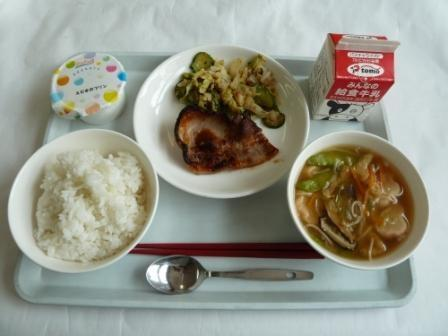Cup desserts: (36, 45, 136, 125)
Milk: (307, 29, 405, 127)
Rice: (12, 127, 156, 270)
Soups: (289, 135, 430, 270)
cooked food based on meat: (168, 105, 281, 181)
salad with sauce: (177, 44, 285, 119)
